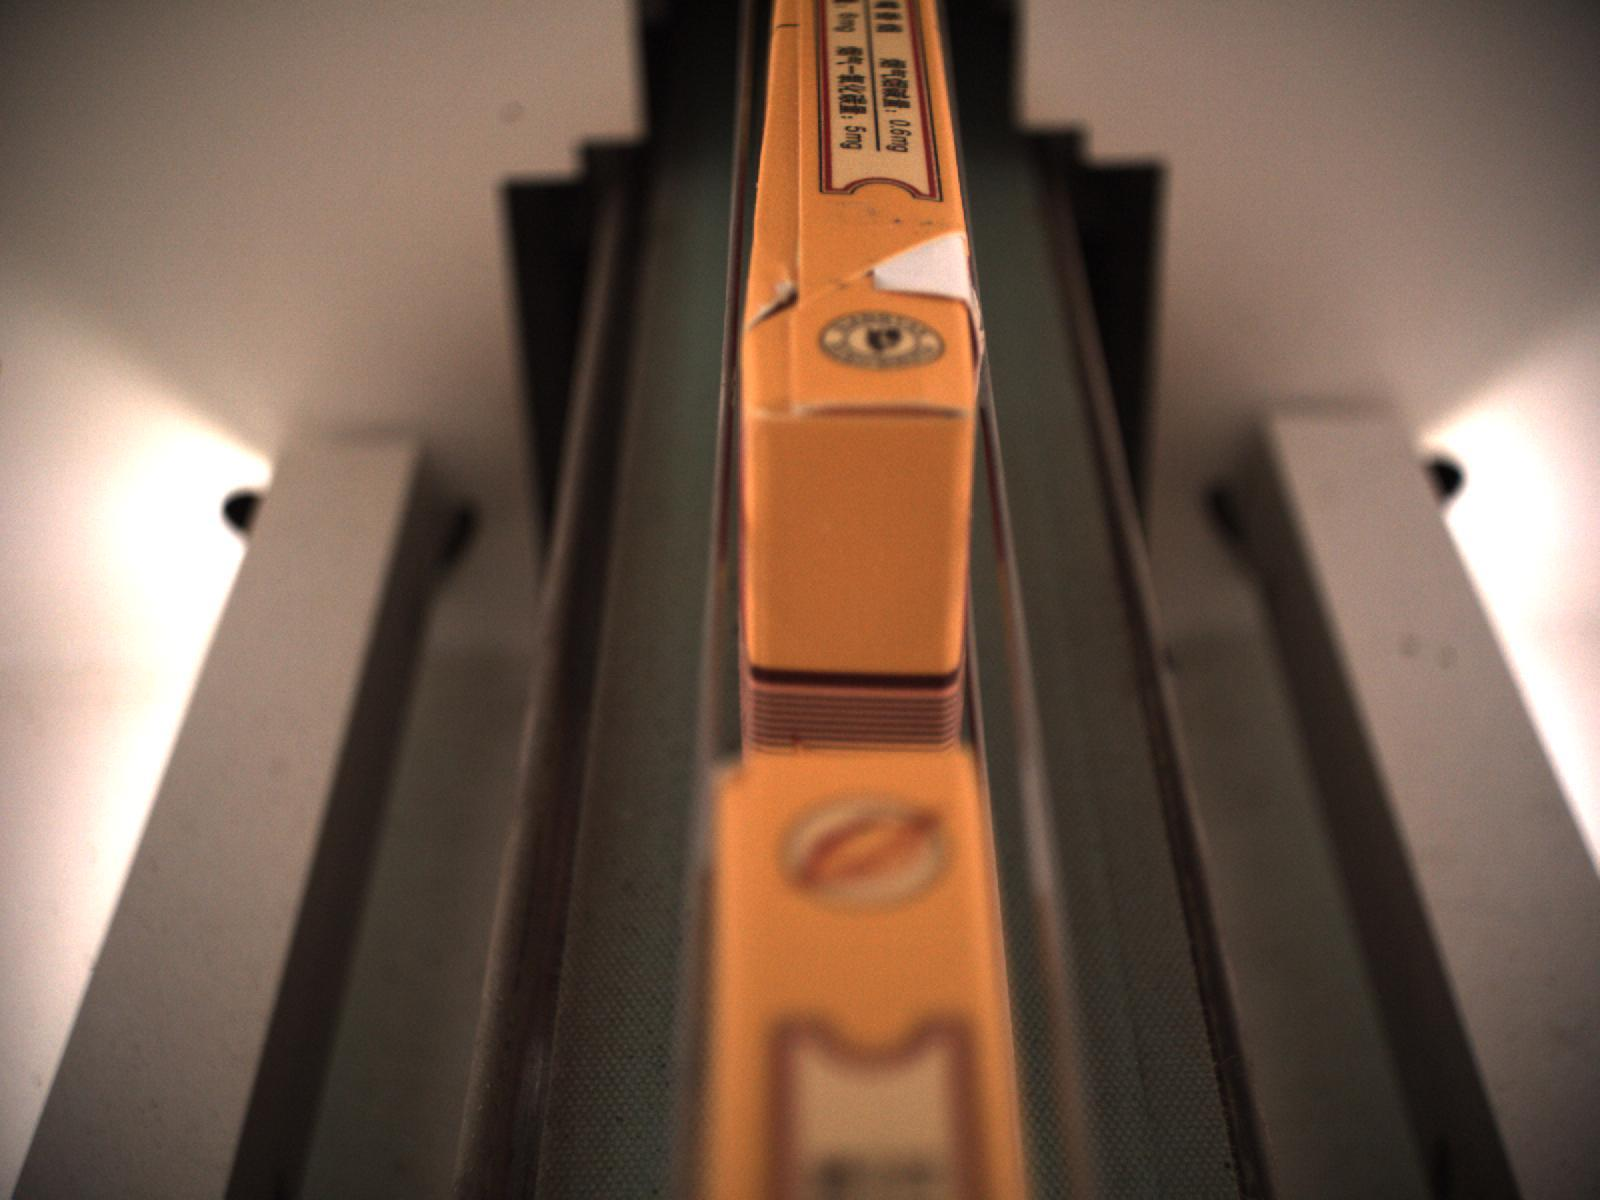dirtySpot: (892, 217, 904, 227)
frame: (860, 229, 976, 308)
headDamage_upper_2: (748, 307, 975, 430)
skewed_upper_2: (748, 12, 820, 328)
